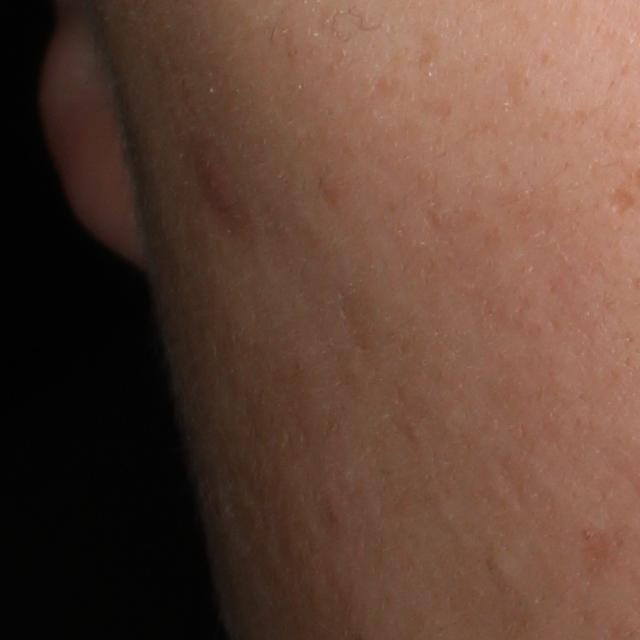atrophic_scar: (603, 185, 636, 217)
comedo: (488, 550, 517, 591)
papule: (195, 153, 240, 209)
